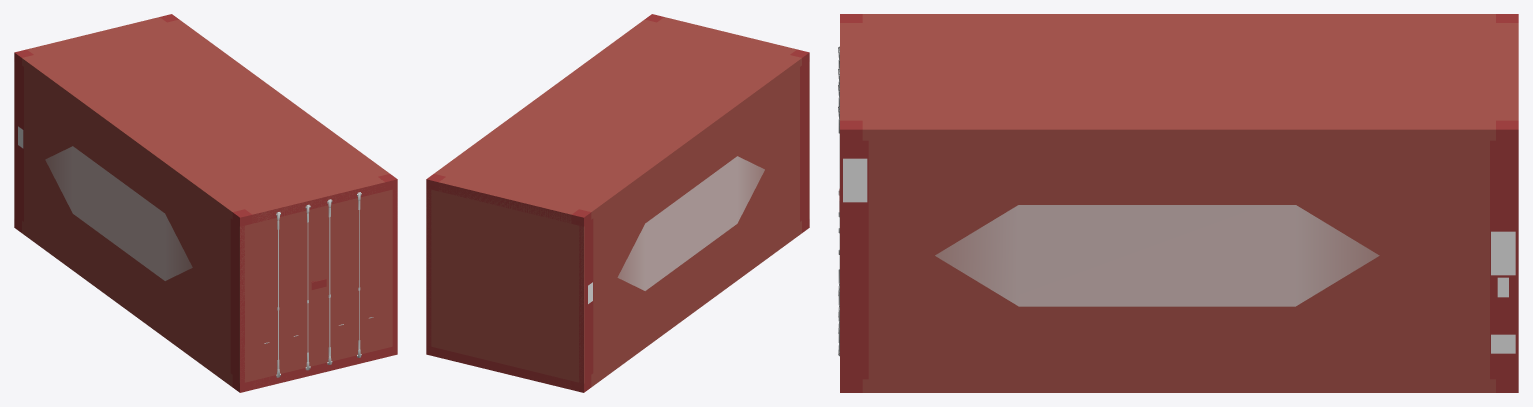
Rendered from s_containers_20_nodeoline.dae.
3 renders of one model, left to right at view 1: azimuth 30°, elevation 25°; view 2: azimuth 150°, elevation 25°; view 3: azimuth 270°, elevation 25°, orthographic. The views are drawn at different scales.
Visible parts, largest first — view 1: s_containers_20_nodeoline_a20, s_containers_20_nodeoline_a700, s_containers_20_nodeoline_a80, s_containers_20_nodeoline_a300; view 2: s_containers_20_nodeoline_a20, s_containers_20_nodeoline_a80, s_containers_20_nodeoline_a700, s_containers_20_nodeoline_a300; view 3: s_containers_20_nodeoline_a20, s_containers_20_nodeoline_a700, s_containers_20_nodeoline_a300, s_containers_20_nodeoline_a80.
Part boxes in pixels (left/top/right/bottom): s_containers_20_nodeoline_a20: left=14, top=17, right=392, bottom=389; s_containers_20_nodeoline_a700: left=14, top=14, right=397, bottom=392; s_containers_20_nodeoline_a80: left=240, top=182, right=397, bottom=389; s_containers_20_nodeoline_a300: left=14, top=14, right=397, bottom=392; s_containers_20_nodeoline_a20: left=426, top=17, right=809, bottom=388; s_containers_20_nodeoline_a80: left=426, top=182, right=583, bottom=389; s_containers_20_nodeoline_a700: left=426, top=14, right=809, bottom=392; s_containers_20_nodeoline_a300: left=426, top=14, right=809, bottom=392; s_containers_20_nodeoline_a20: left=840, top=14, right=1518, bottom=392; s_containers_20_nodeoline_a700: left=838, top=14, right=1518, bottom=392; s_containers_20_nodeoline_a300: left=839, top=14, right=1518, bottom=392; s_containers_20_nodeoline_a80: left=840, top=143, right=1518, bottom=392.
Size of the model in its own units: 2.48 by 6.07 by 2.6.
